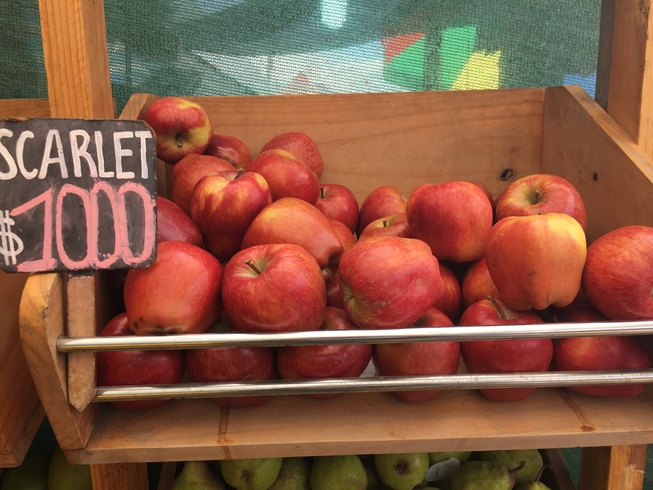precio: (1, 116, 156, 267)
